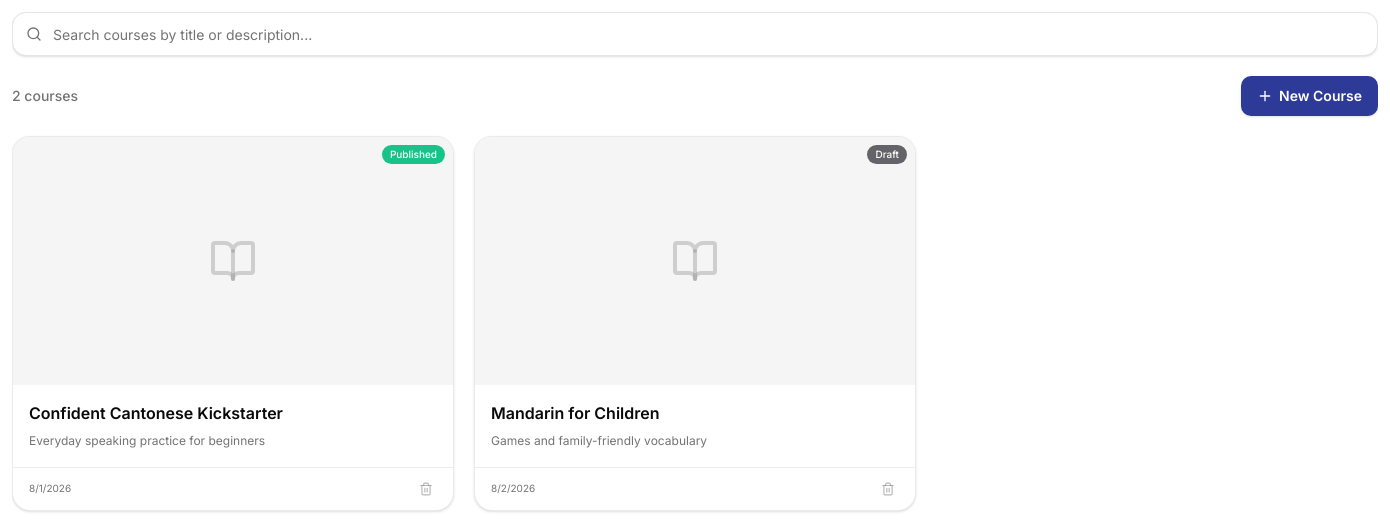
Test: admin Course Library search UI › filters course cards while typing without submitting
Type "family-friendly" into the search field labelled "Search courses by title or description" at (695, 34), box [12,12,1378,56]
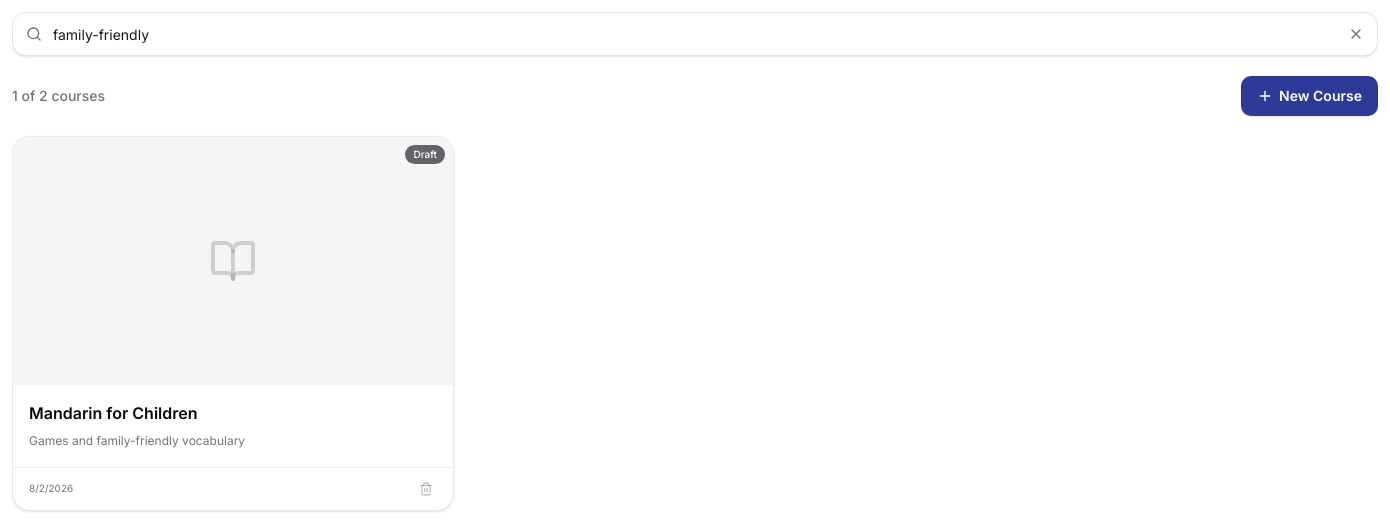
Expected: the heading "Mandarin for Children" is shown, [29,402,198,422]
Expected: the text "1 of 2 courses" is shown, [12,86,105,106]
Expected: the link "Confident Cantonese Kickstarter" is gone
Click the button named "Clear course search" at (1356, 34), box [1342,20,1370,48]
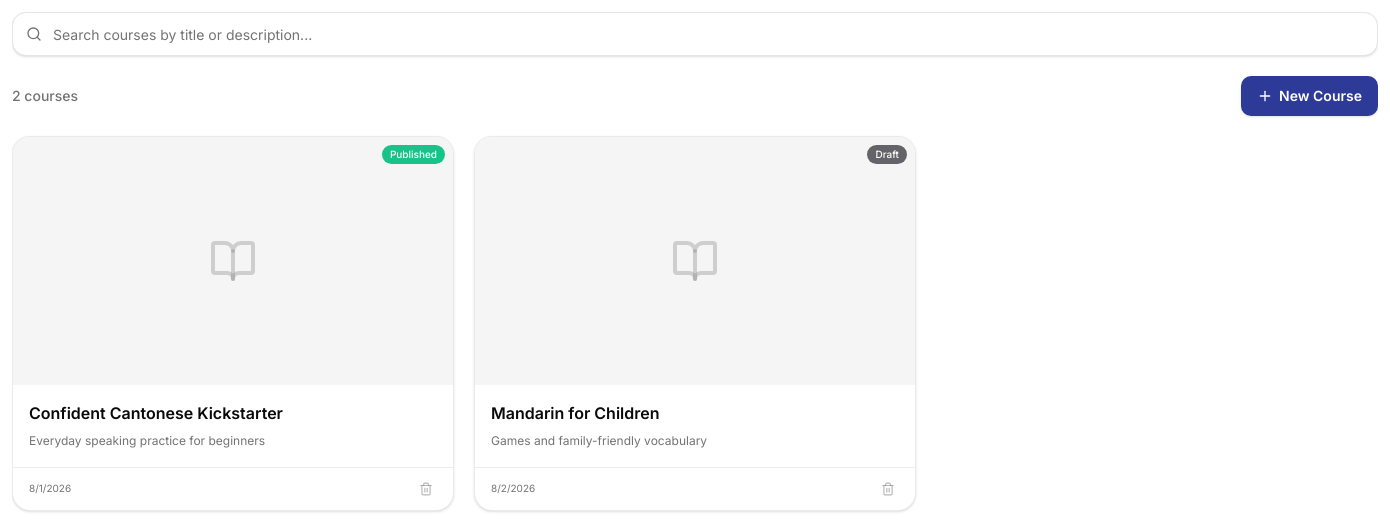
Expected: the text "2 courses" is shown, [12,86,78,106]
Expected: the heading "Confident Cantonese Kickstarter" is shown, [29,402,283,422]
